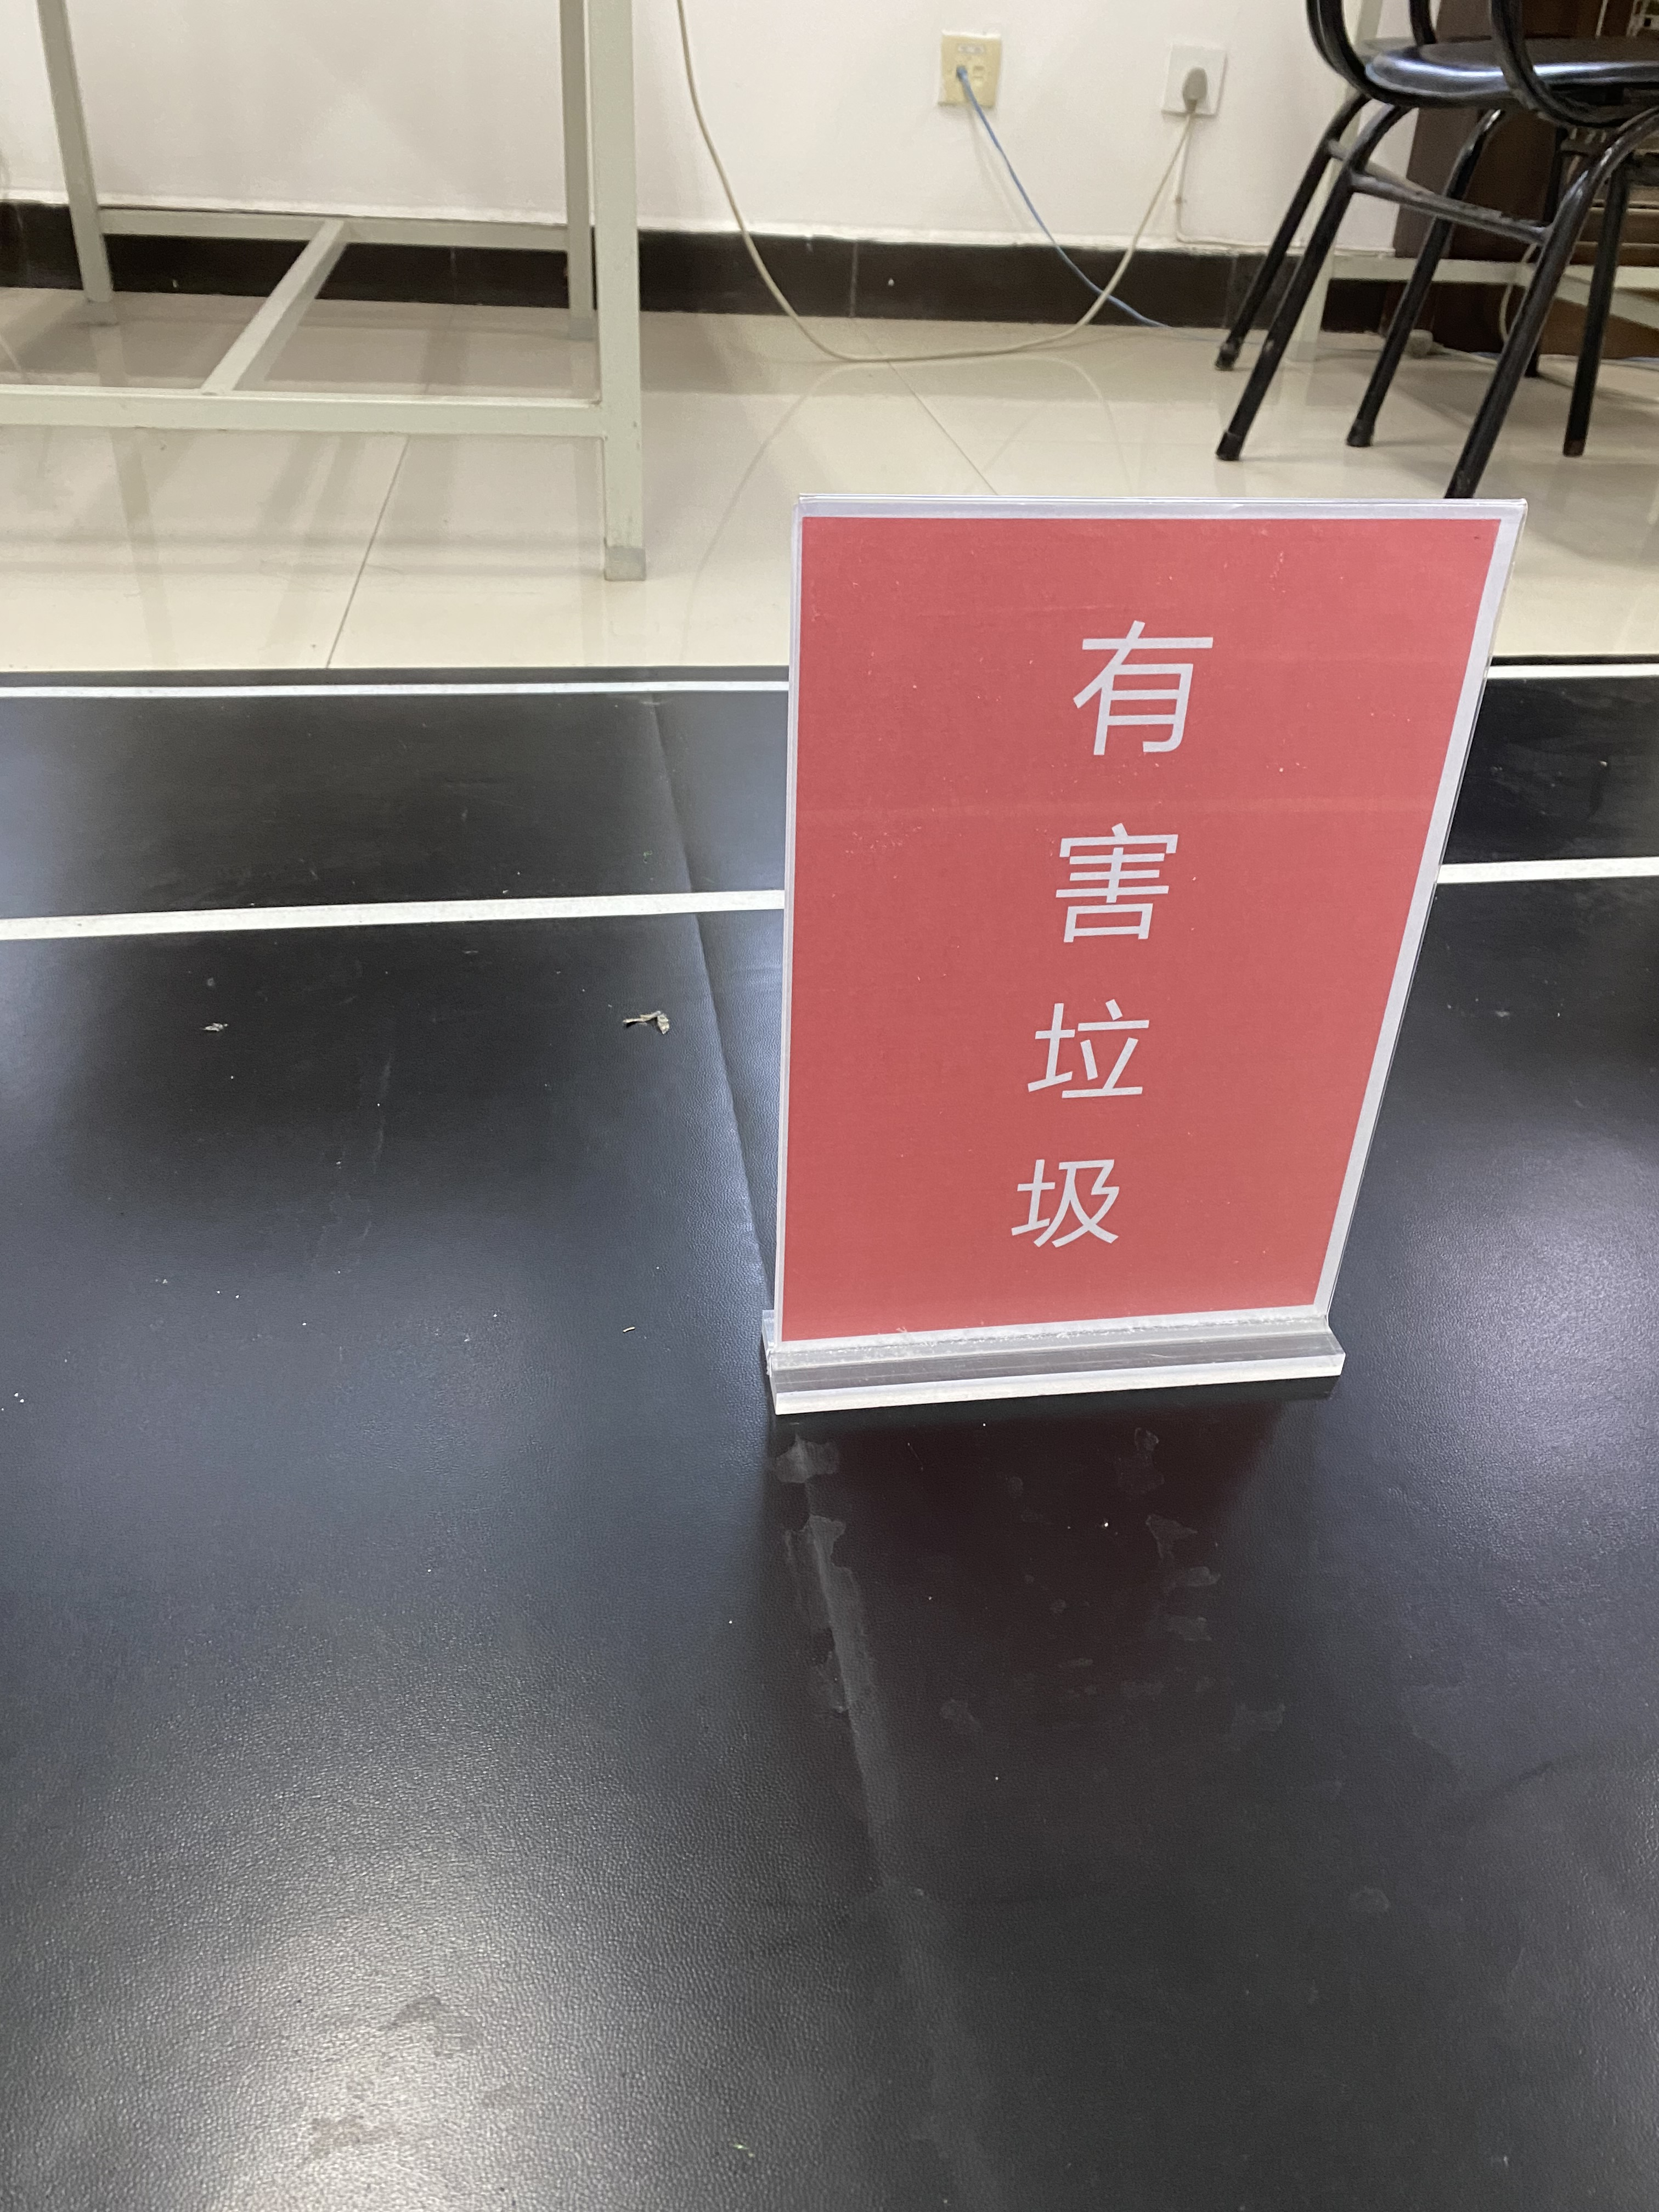red: (903, 549, 1307, 1282)
